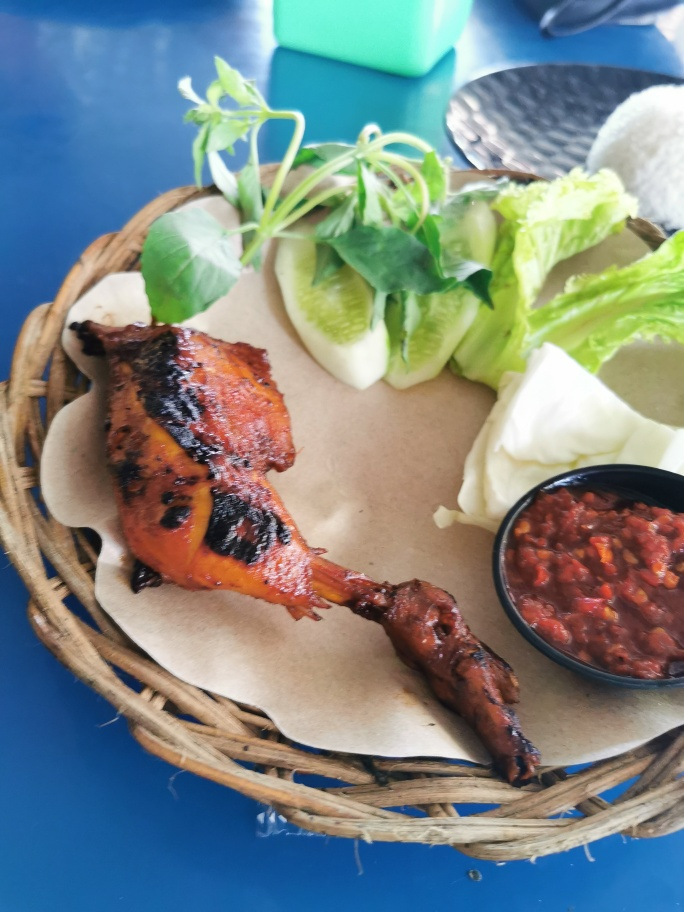ayam bakar: (71, 293, 531, 802)
